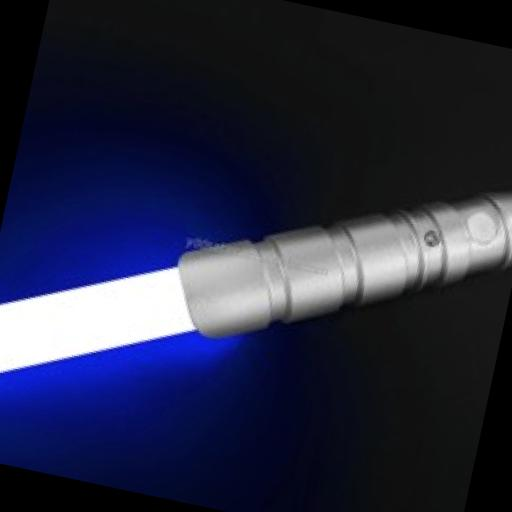lightsaber: (0, 83, 512, 486)
